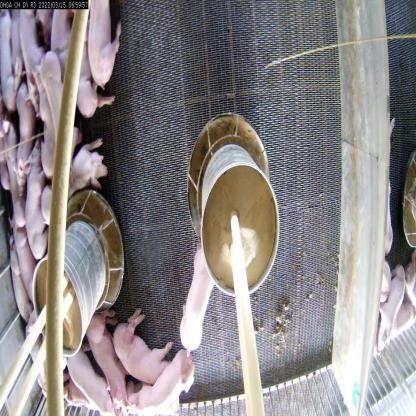Pig: (123, 342, 201, 415), (180, 240, 220, 366), (81, 3, 130, 95), (110, 317, 171, 389), (58, 344, 116, 415), (86, 306, 127, 406), (54, 136, 108, 209), (40, 41, 66, 170), (19, 140, 45, 258), (3, 219, 42, 295)
